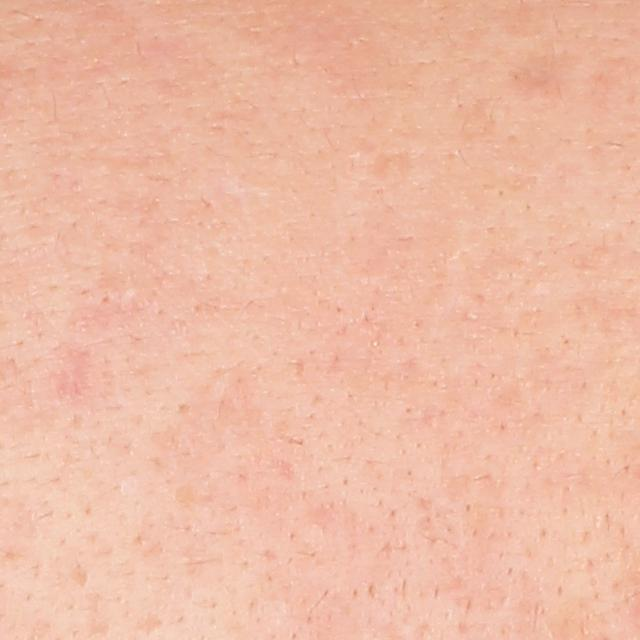atrophic_scar: (130, 610, 167, 639), (70, 559, 88, 587)
